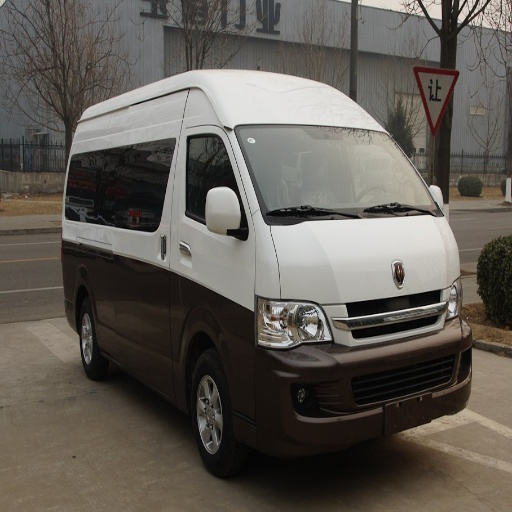front_bumper: (231, 287, 472, 456)
front_right_door: (121, 90, 254, 388)
front_right_light: (258, 299, 331, 349)
hood: (273, 216, 456, 302)
trunk: (66, 223, 113, 260)
